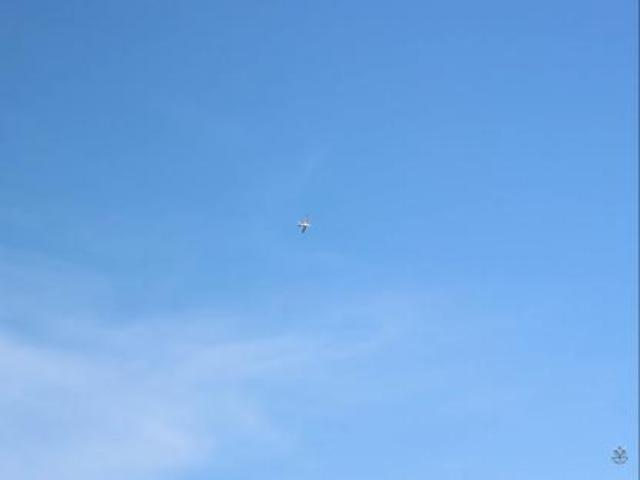uav: (296, 214, 312, 236)
